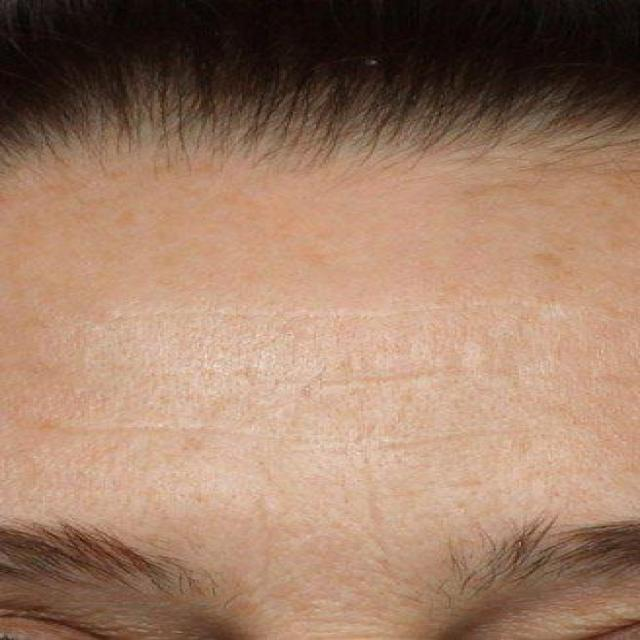Wrinkles: (29, 417, 614, 452), (64, 301, 584, 324), (242, 365, 620, 385)
